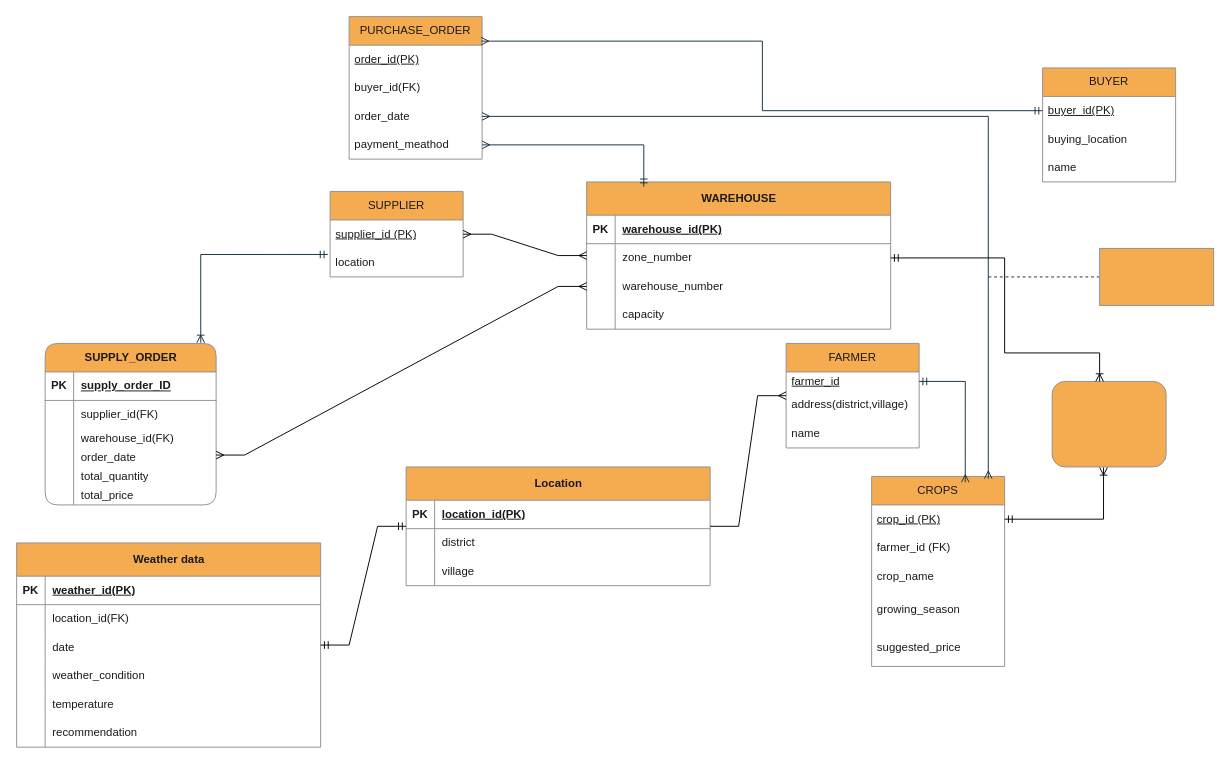
This 1230x764 diagram has some shape labels left out. Here are the shapes that lost their labels. From the top down, the centre of each, then its label:
[1156,276]: order_id(FK) crop_id(FK) quantity unit_price
[1108,423]: crop_id(PK) warehouse_id(FK) stored_quantity unit_price
